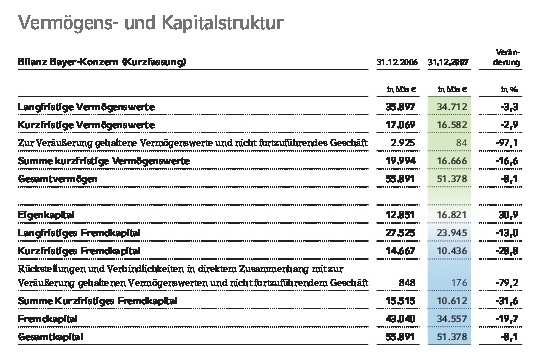table: (0, 0, 544, 358)
